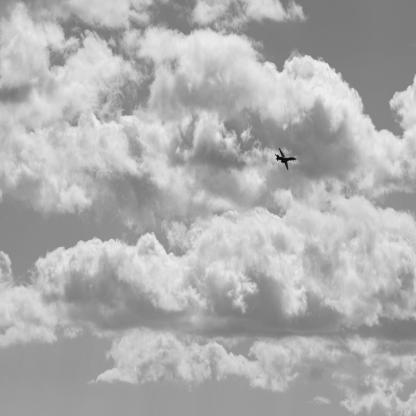B1: (275, 148, 298, 171)
